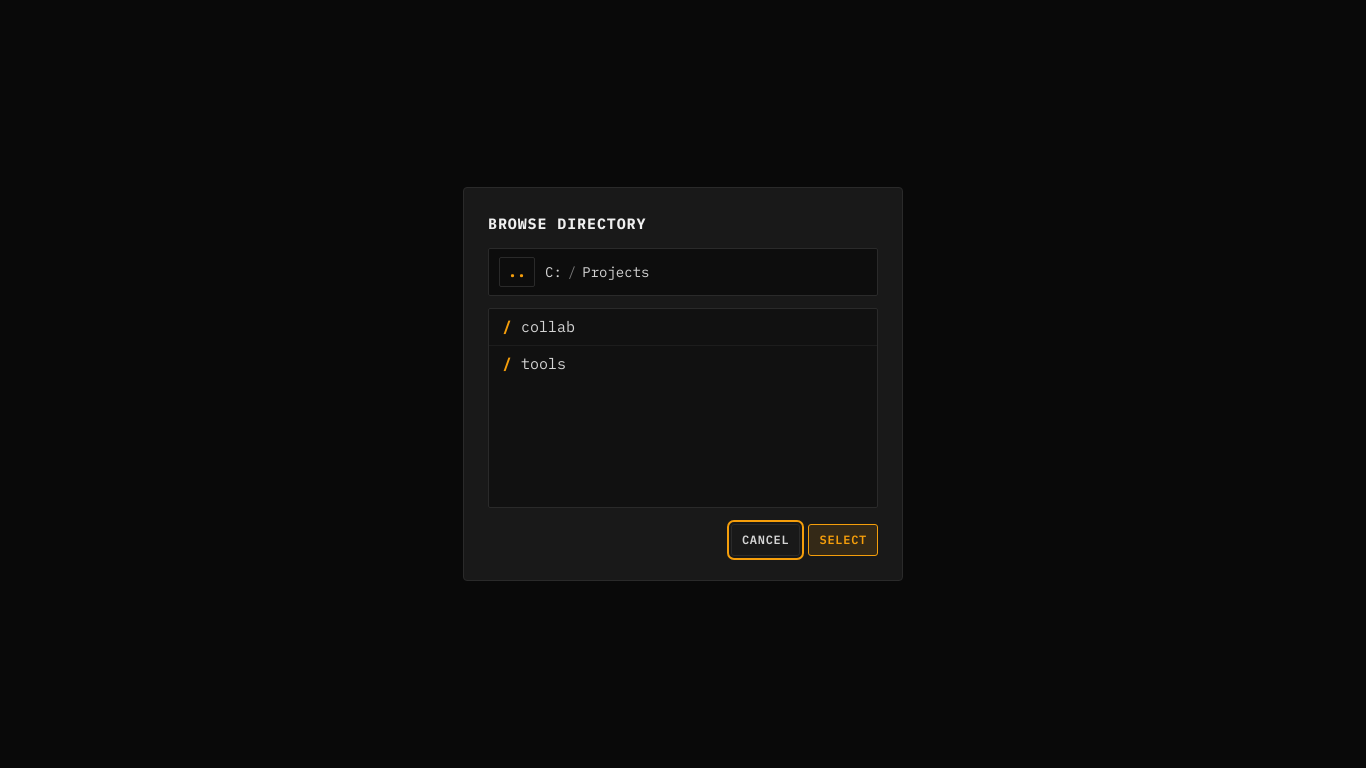
Test: DirectoryBrowser › navigates into a directory on click
Click the text "collab": (548, 327) [521,315,575,339]
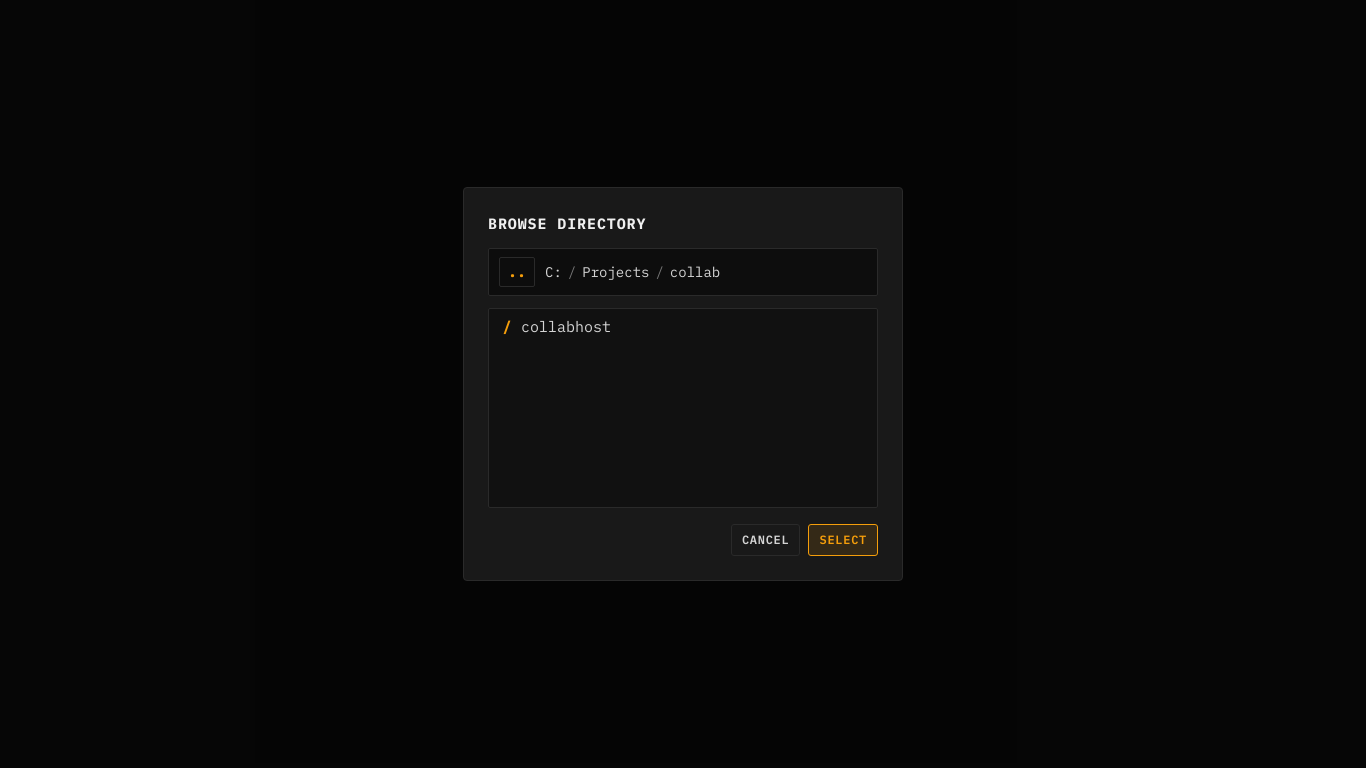
Result: the text "collabhost" is shown at [521,315,611,339]
